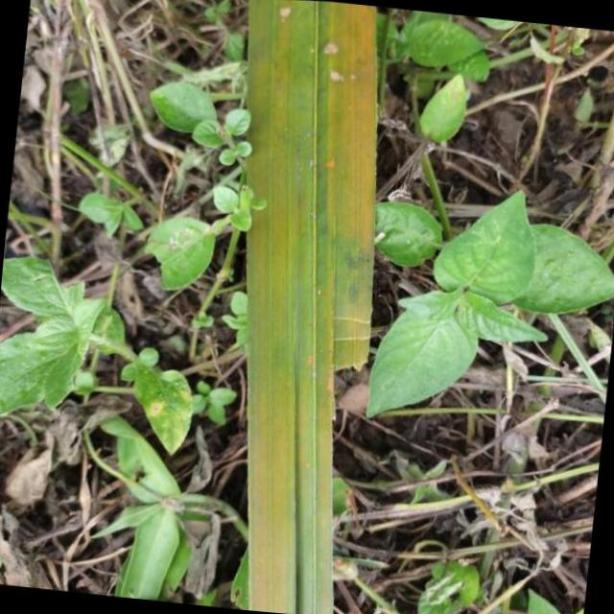Megnesium: (245, 0, 374, 614)
